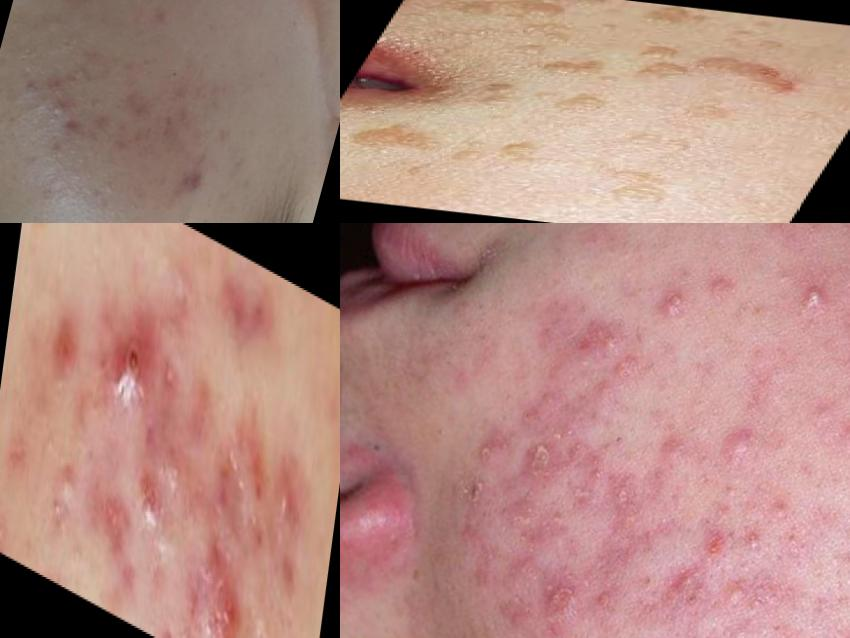acne_scars: (205, 251, 277, 377)
cystic: (101, 283, 162, 417)
flat_wart: (341, 114, 552, 190), (521, 52, 639, 91), (579, 165, 683, 209), (425, 1, 582, 29), (612, 43, 705, 86), (630, 4, 732, 39), (523, 85, 623, 118), (460, 78, 537, 117)
papular: (711, 400, 781, 484), (648, 405, 714, 481), (198, 555, 255, 638), (273, 467, 312, 551), (131, 467, 163, 536), (173, 155, 215, 201)
purulent: (711, 416, 773, 480), (785, 267, 843, 332), (645, 277, 704, 333)
sebo-crystan-conglo: (529, 562, 606, 638), (468, 421, 522, 486), (583, 302, 631, 365), (669, 546, 722, 603)
whitehead: (47, 97, 83, 129), (33, 85, 55, 122)
